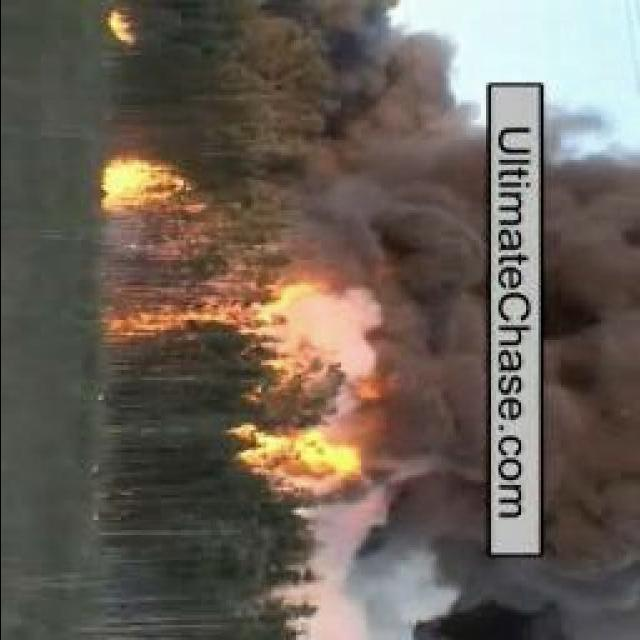Fire: (98, 280, 296, 354), (226, 420, 373, 502), (110, 154, 192, 216), (101, 11, 137, 49)
